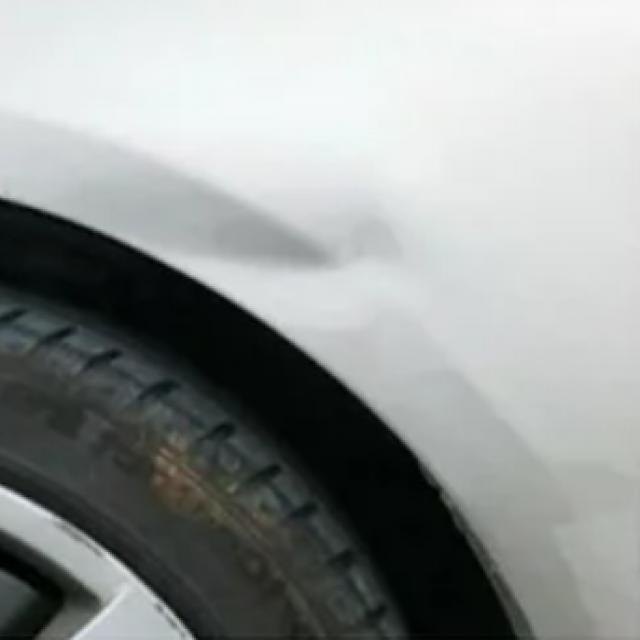dents: (208, 191, 429, 357)
